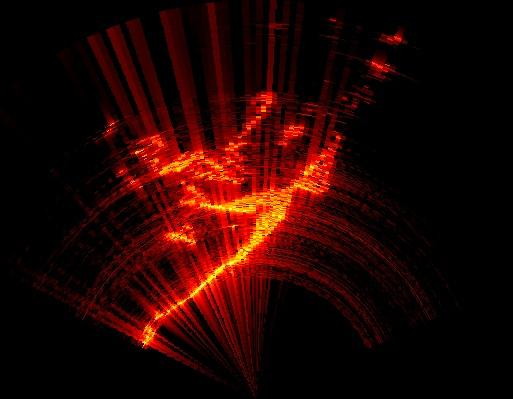shipwreck: (144, 137, 340, 344), (136, 93, 275, 182), (166, 225, 195, 243)
